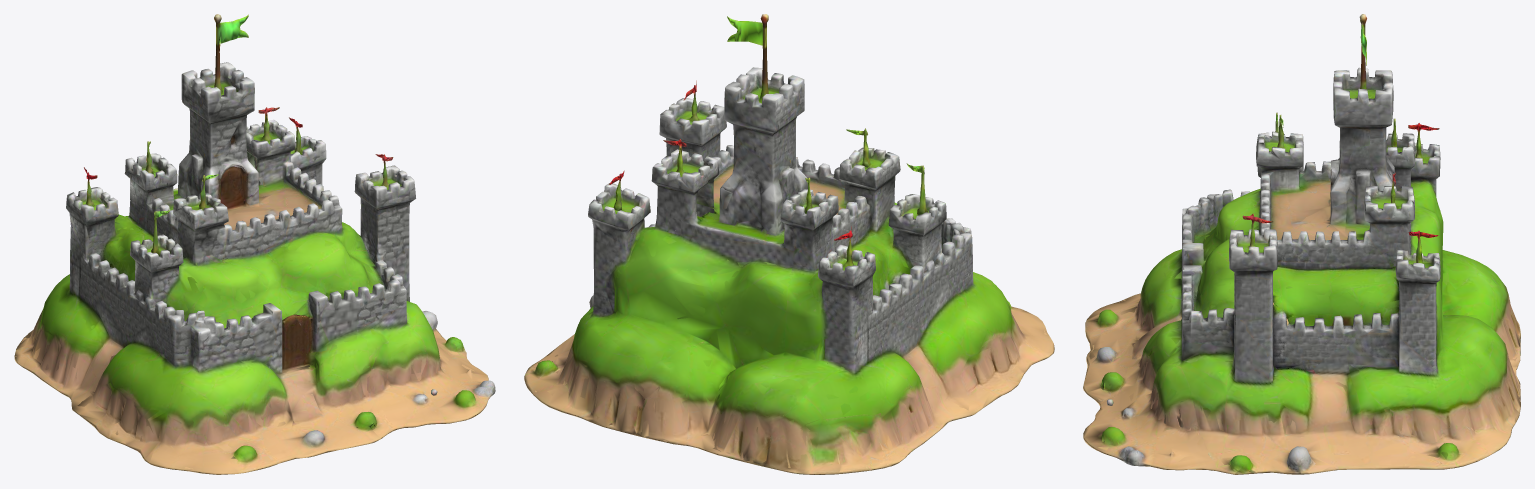
Rendered from barracks.glb.
3 views of the same model, side by side, from view 1: azimuth 30°, elevation 25°; view 2: azimuth 150°, elevation 25°; view 3: azimuth 270°, elevation 25° (orthographic). The views are drawn at different scales.
Bounding box in the file's own units: 1.9 × 1.77 × 1.87.
1 material, 1 textured.
